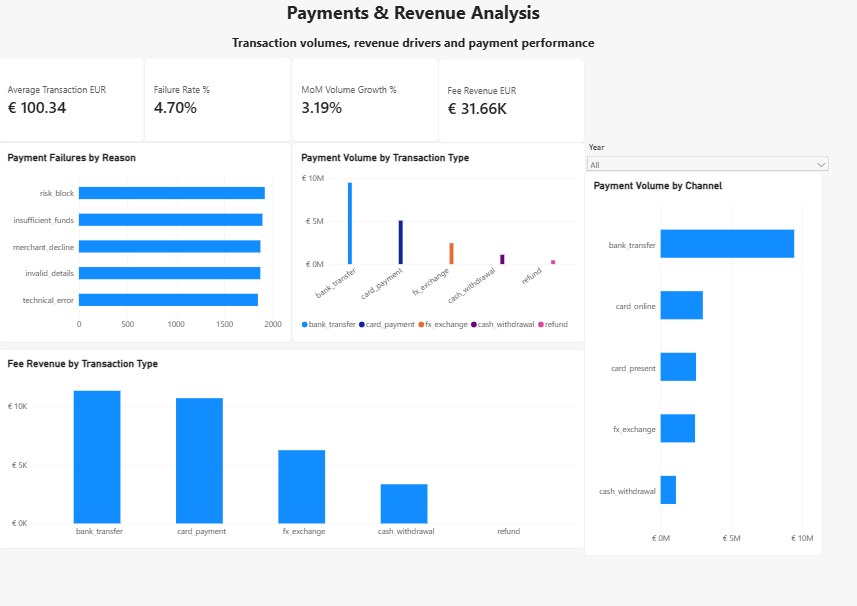

What the dashboard file says about the page in this screenshot:
{"tool":"powerbi","page":{"name":"Payments & Revenue","canvas":[1920,1080],"ordinal":2},"visuals":[{"type":"textbox","box":[9.5,0,1458.1,59.5],"z":0},{"type":"textbox","box":[9.5,59.5,1458.1,43.2],"z":1000},{"type":"cardVisual","fields":{"Data":["revolut_finance transactions.Average Transaction EUR"]},"box":[0,102.7,260.8,150],"z":2000},{"type":"cardVisual","fields":{"Data":["revolut_finance transactions.Failure Rate %"]},"box":[260.8,102.7,261,150],"z":3000},{"type":"cardVisual","fields":{"Data":["revolut_finance transactions.MoM Volume Growth %"]},"box":[521.6,102.7,261,150],"z":4000},{"type":"cardVisual","fields":{"Data":["revolut_finance transactions.Fee Revenue EUR"]},"box":[782.4,104.1,261,150],"z":5000},{"type":"clusteredBarChart","title":"Payment Failures by Reason","fields":{"Category":["revolut_finance transactions.failure_reason"],"Y":["revolut_finance transactions.Failed Transactions"]},"box":[0,254.1,521.6,355.4],"z":6000},{"type":"clusteredColumnChart","title":"Payment Volume by Transaction Type","fields":{"Category":["revolut_finance transactions.transaction_type"],"Series":["revolut_finance transactions.transaction_type"],"Y":["Date.Payment Volume EUR"]},"box":[521.6,254.1,522,355],"z":7000},{"type":"clusteredColumnChart","title":"Fee Revenue by Transaction Type","fields":{"Category":["revolut_finance transactions.transaction_type"],"Y":["revolut_finance transactions.Fee Revenue EUR"]},"box":[0,618.9,1043.2,355.4],"z":8000},{"type":"clusteredBarChart","title":"Payment Volume by Channel","fields":{"Category":["revolut_finance transactions.channel"],"Y":["Date.Payment Volume EUR"]},"box":[1043.2,304.1,424.3,683.8],"z":9000},{"type":"slicer","fields":{"Values":["Date.Year"]},"box":[1043.2,252.7,439.2,50],"z":10000}]}

Visuals, with their boxes on the page's 1920x1080 design canvas (x1, y1, x2, y2). These are canvas units, not pixel positions in the 857x606 screenshot, which may show the page scaled, cropped or inside an application window:
textbox: BBox(10, 0, 1468, 60)
textbox: BBox(10, 60, 1468, 103)
cardVisual - revolut_finance transactions.Average Transaction EUR: BBox(0, 103, 261, 253)
cardVisual - revolut_finance transactions.Failure Rate %: BBox(261, 103, 522, 253)
cardVisual - revolut_finance transactions.MoM Volume Growth %: BBox(522, 103, 783, 253)
cardVisual - revolut_finance transactions.Fee Revenue EUR: BBox(782, 104, 1043, 254)
"Payment Failures by Reason" clusteredBarChart: BBox(0, 254, 522, 610)
"Payment Volume by Transaction Type" clusteredColumnChart: BBox(522, 254, 1044, 609)
"Fee Revenue by Transaction Type" clusteredColumnChart: BBox(0, 619, 1043, 974)
"Payment Volume by Channel" clusteredBarChart: BBox(1043, 304, 1468, 988)
slicer - Date.Year: BBox(1043, 253, 1482, 303)
